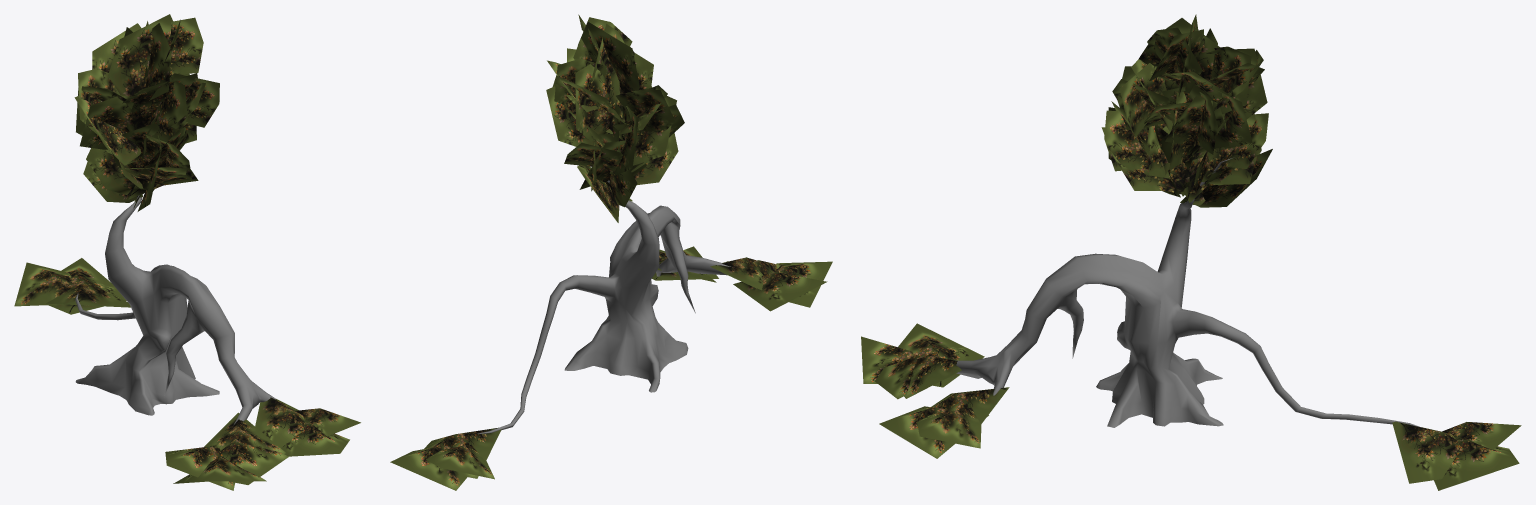
Rendered from lunnstree_lod0.fbx.
3 renders of one model, left to right at view 1: azimuth 30°, elevation 25°; view 2: azimuth 150°, elevation 25°; view 3: azimuth 270°, elevation 25°, orthographic. The views are drawn at different scales.
Visible parts, largest first — view 1: Default_Layer; view 2: Default_Layer; view 3: Default_Layer.
Boxes of the visible parts, box(x1,y1,x2,y2) form: Default_Layer: box(14, 14, 360, 490); Default_Layer: box(390, 14, 832, 490); Default_Layer: box(861, 14, 1521, 490).
Size of the model in its own units: 719 by 1332 by 1862.
